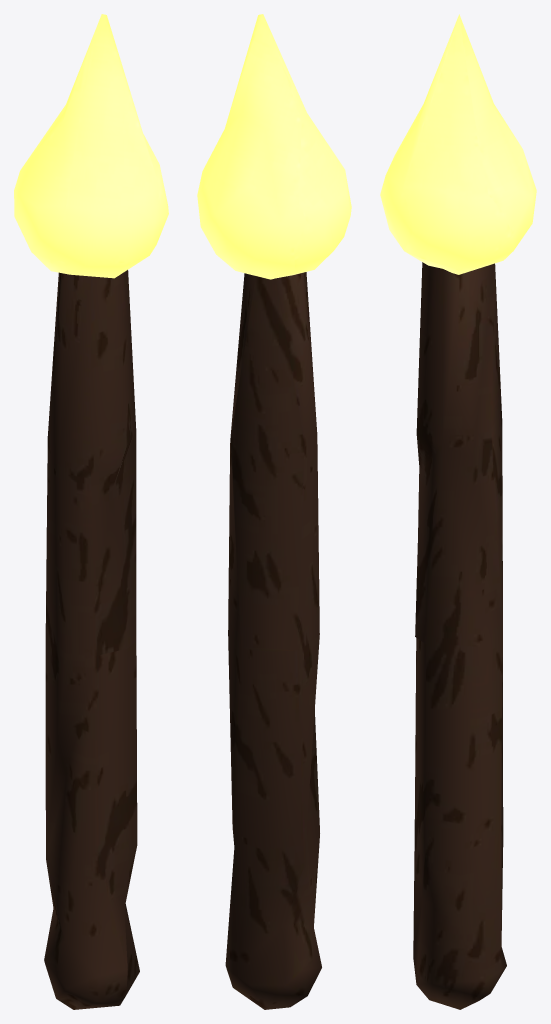
Rendered from apprentice-wand.glb.
3 renders of one model, left to right at view 1: azimuth 30°, elevation 25°; view 2: azimuth 150°, elevation 25°; view 3: azimuth 270°, elevation 25°, orthographic.
Visible parts, largest first — view 1: wand, glow; view 2: wand, glow; view 3: wand, glow.
Boxes of the visible parts, x1,y1,x2,y2 form: wand: (44, 270, 139, 1009); glow: (14, 14, 168, 278); wand: (225, 272, 321, 1009); glow: (197, 14, 351, 279); wand: (413, 262, 506, 1009); glow: (380, 14, 536, 274).
Size of the model in its own units: 0.0471 by 0.3402 by 0.0486.
Materials: 2 (2 with a texture image).
